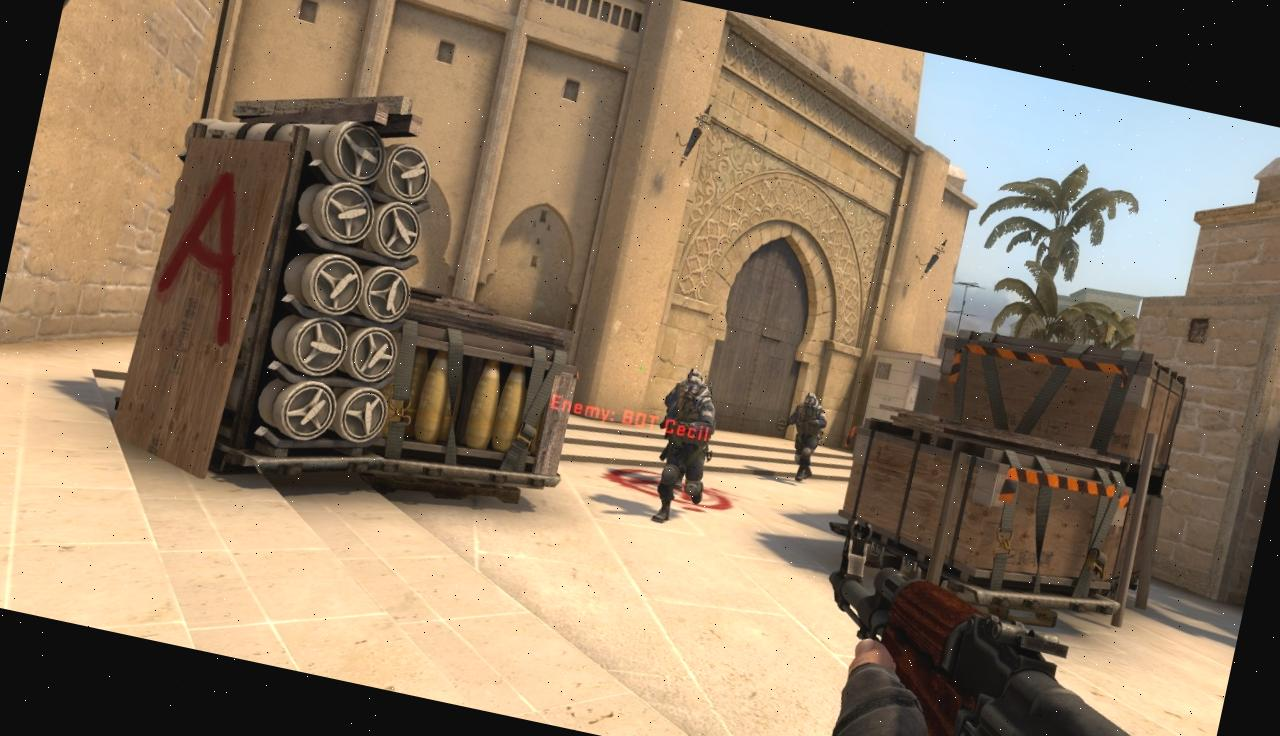ct: (642, 373, 726, 531), (778, 390, 832, 486)
cthead: (681, 376, 705, 404), (802, 392, 819, 410)
rifle: (785, 515, 1244, 736)
